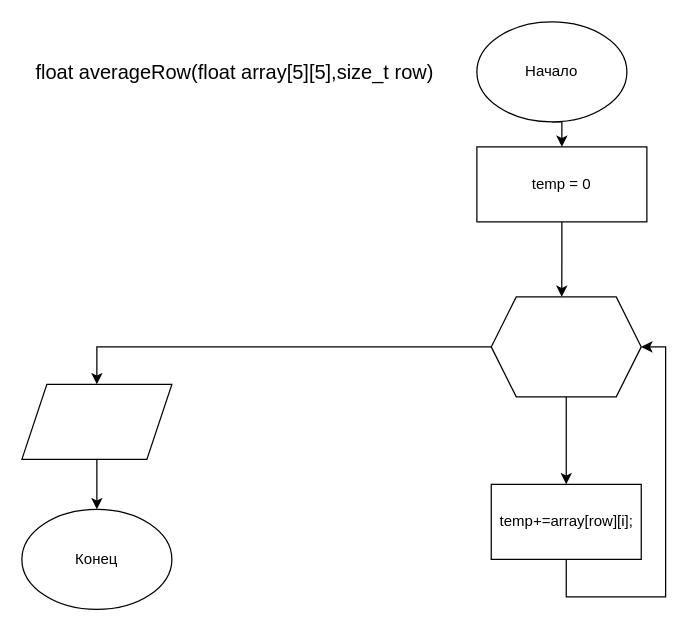
This 698x631 diagram has some shape labels left out. Each missing label, with the box of its shape:
int i=0;i<5;i++: (490, 296, 641, 397)
return temp/5: (21, 383, 172, 459)
